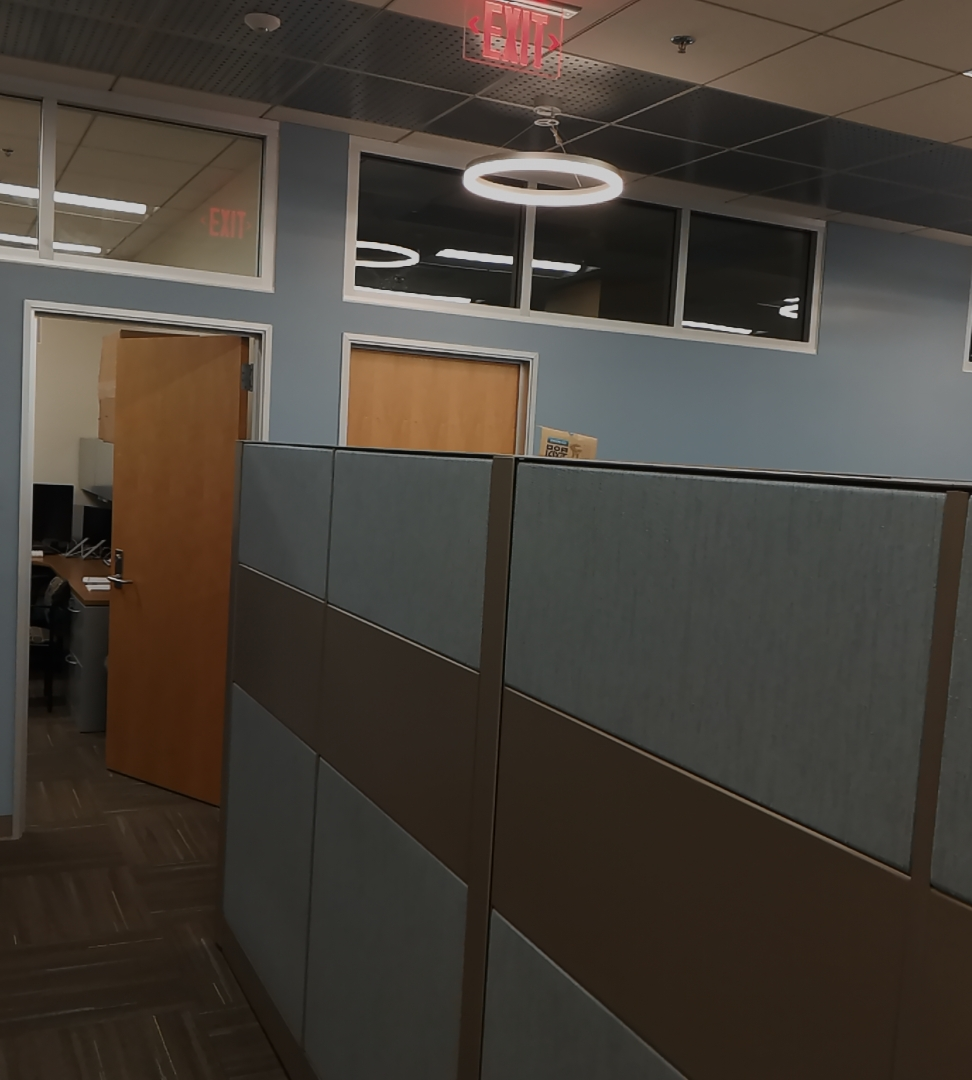emergency_exit: (458, 0, 582, 81)
